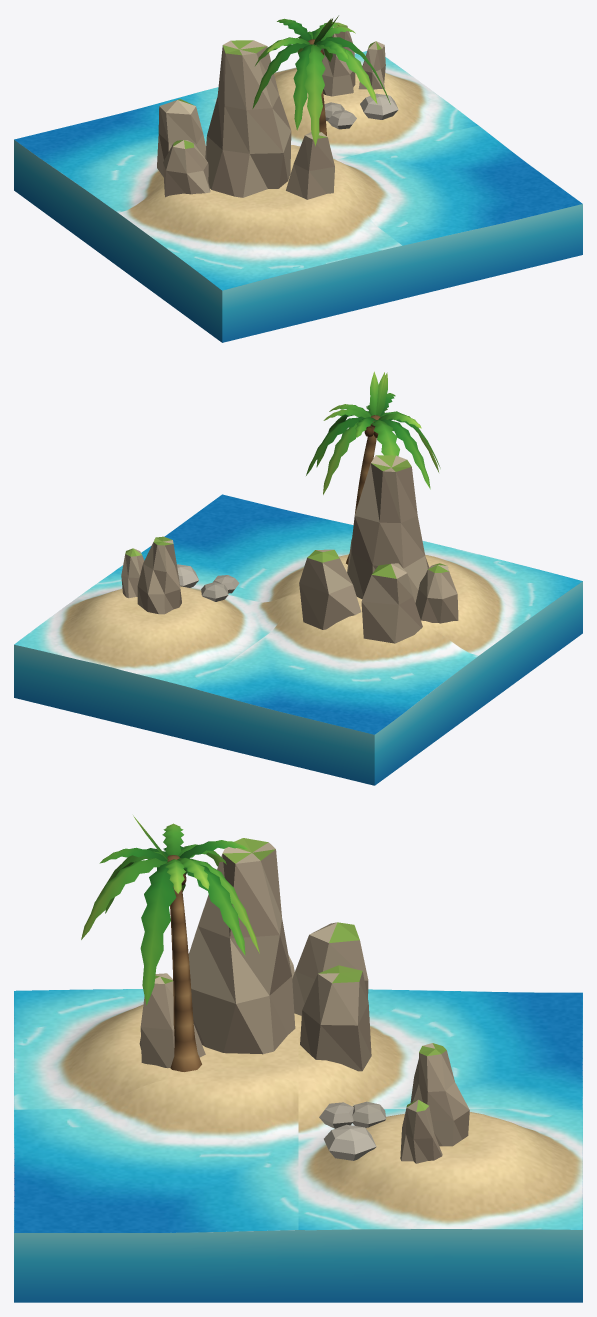
The model's file is Islet_Rocks.obj.
3 renders of one model, top to bottom at view 1: azimuth 30°, elevation 25°; view 2: azimuth 150°, elevation 25°; view 3: azimuth 270°, elevation 25°, orthographic. The views are drawn at different scales.
Parts seen in each view (by area): view 1: Islet_Rocks_Palette, Islet_Rocks_Islet_Rocks_Terrain; view 2: Islet_Rocks_Palette, Islet_Rocks_Islet_Rocks_Terrain; view 3: Islet_Rocks_Islet_Rocks_Terrain, Islet_Rocks_Palette.
Boxes of the visible parts, x1=… form: Islet_Rocks_Palette: x1=14, y1=15, x2=582, y2=342; Islet_Rocks_Islet_Rocks_Terrain: x1=14, y1=51, x2=582, y2=290; Islet_Rocks_Palette: x1=14, y1=371, x2=582, y2=785; Islet_Rocks_Islet_Rocks_Terrain: x1=14, y1=494, x2=582, y2=734; Islet_Rocks_Islet_Rocks_Terrain: x1=14, y1=989, x2=582, y2=1232; Islet_Rocks_Palette: x1=14, y1=815, x2=582, y2=1302.
Size of the model in its own units: 4 by 2.71 by 4.
2 materials, 2 textured.
